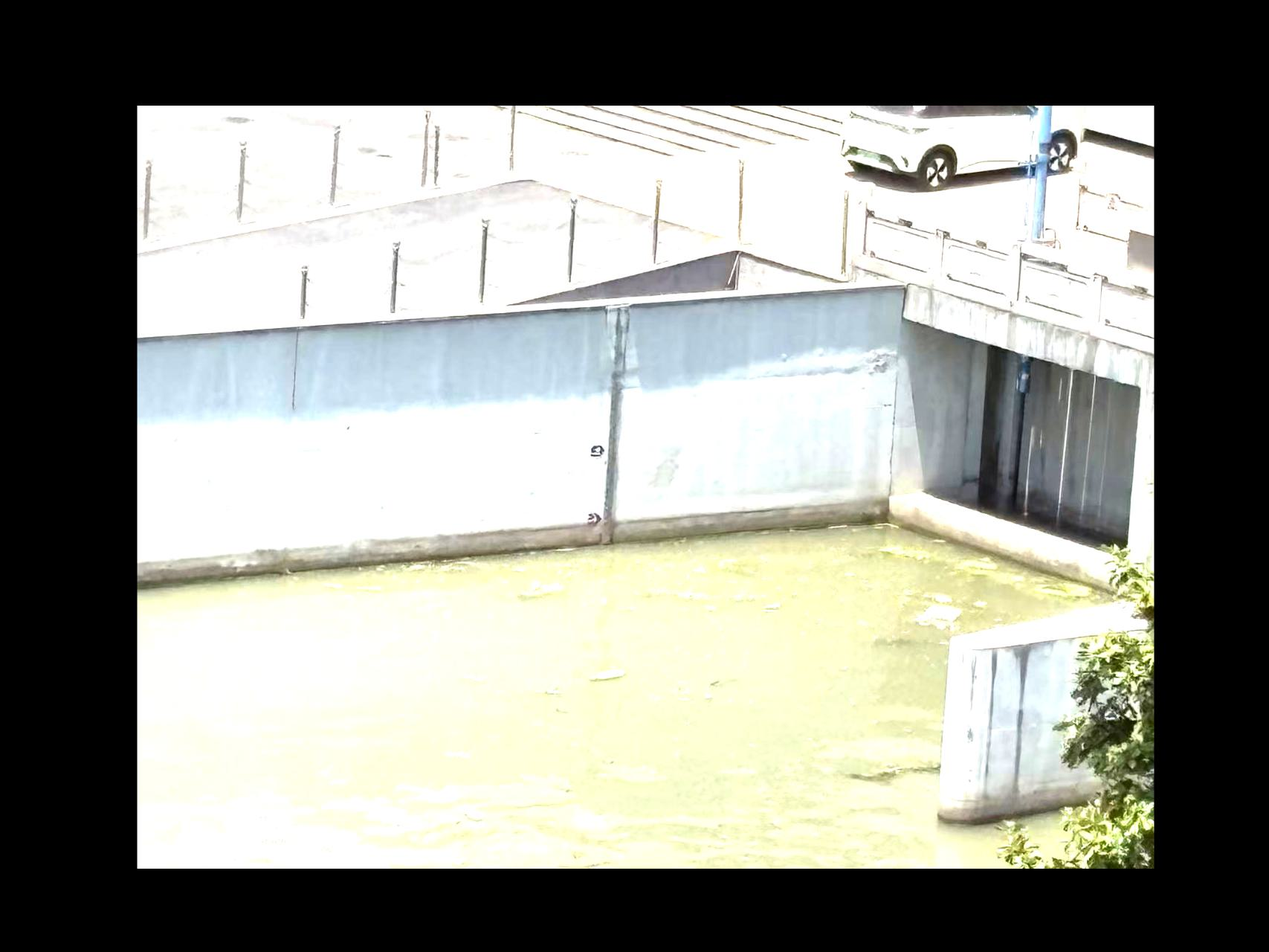Other: (658, 586, 761, 602), (510, 579, 570, 601), (855, 767, 911, 779), (1046, 585, 1091, 598), (590, 666, 624, 682), (885, 544, 928, 556), (958, 559, 992, 573)
Plastic wastes: (919, 607, 960, 621)
